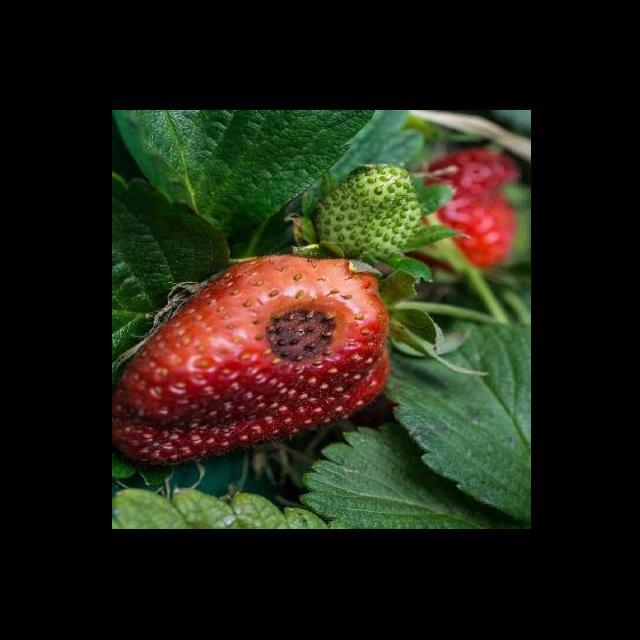Anthracnose Fruit Rot: (258, 298, 336, 371)
